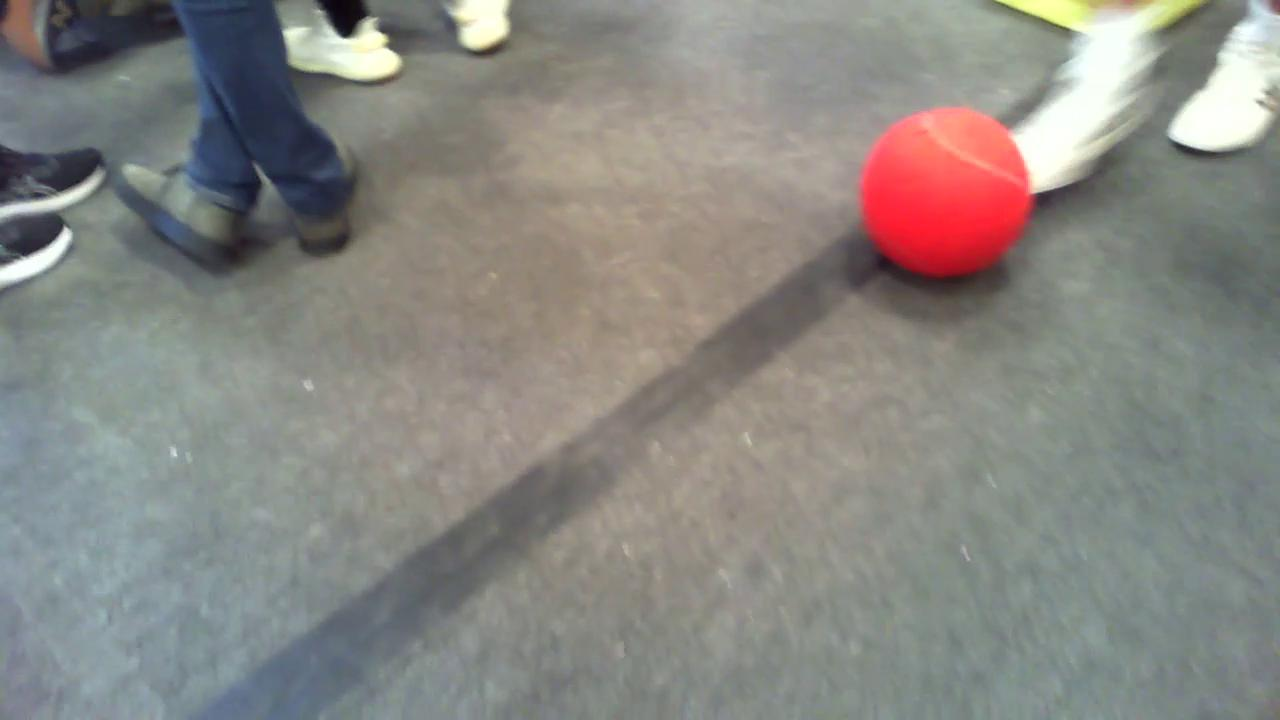Red_Ball: (844, 100, 1056, 296)
